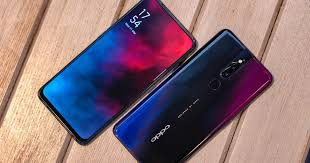oppo: (36, 1, 199, 144), (115, 26, 272, 163)
